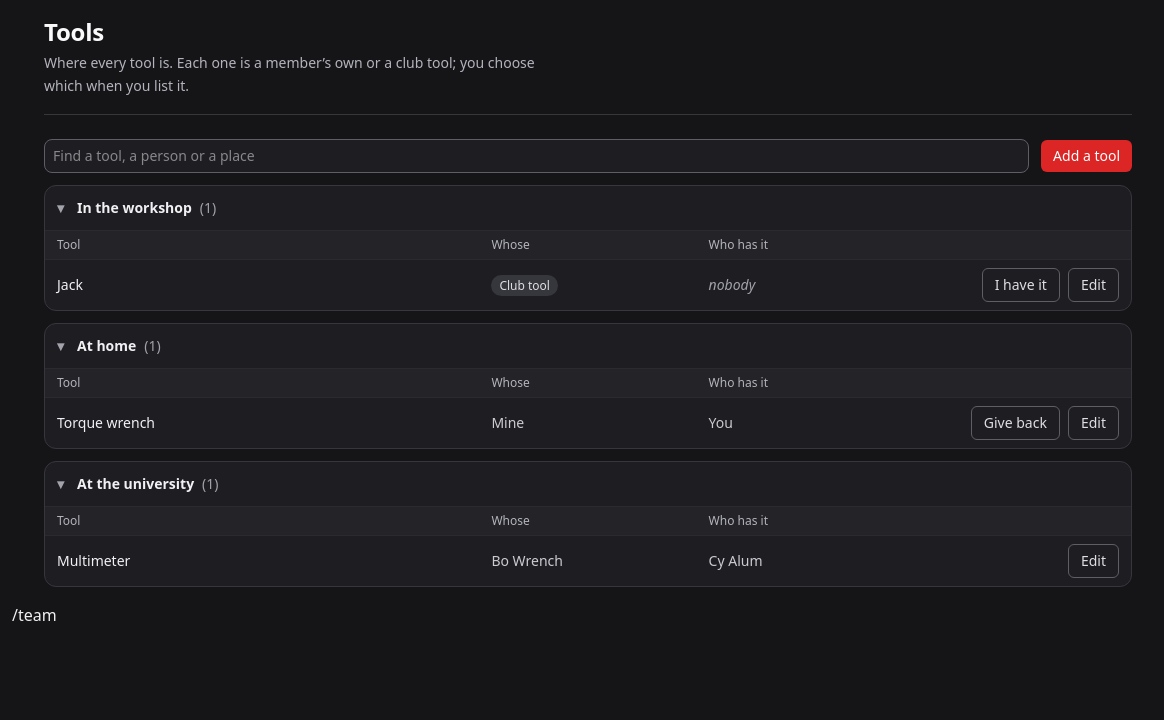
Test: Team › finds a tool by its name, its owner, who has it, where it is or "club tool"
This screenshot has width=1164, height=720.
Type "torq" into the search field labelled "Find a tool" at (537, 156), box x1=44 y1=138 x2=1029 y2=172
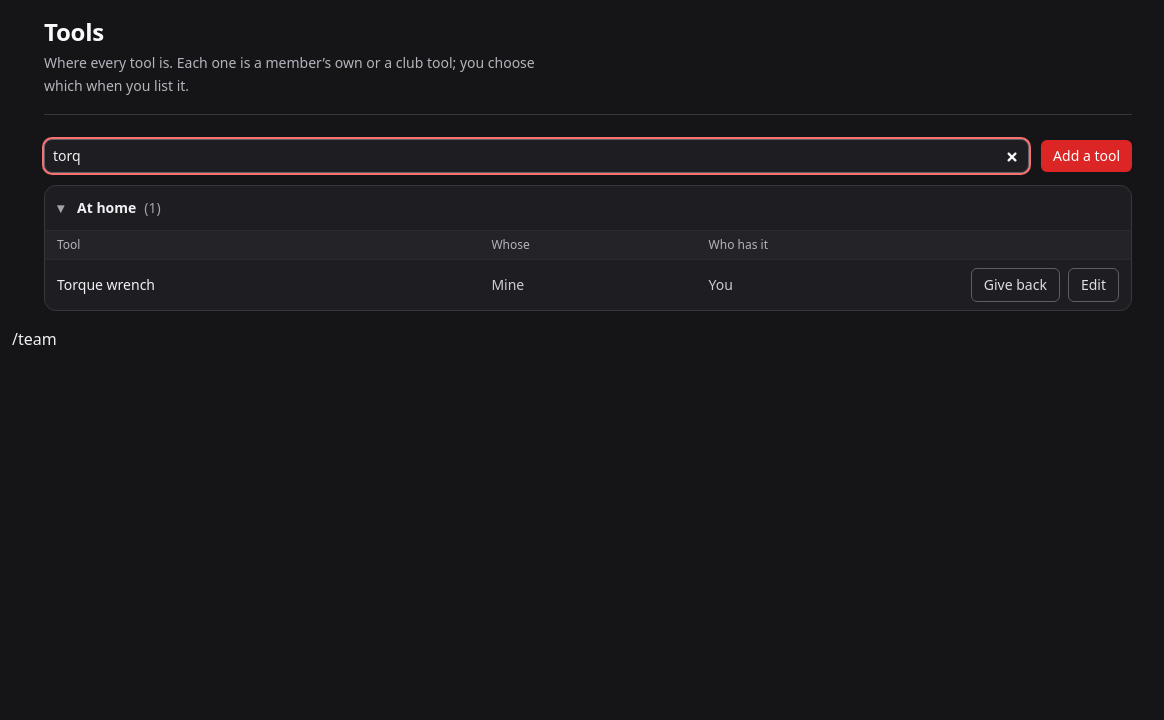
Expected: the row with test id "tool-2" is shown, x1=45 y1=259 x2=1131 y2=310
Expected: the row with test id "tool-1" is gone
Replace the text in the search field named "Find a tool" with "alum" at (537, 156), box x1=44 y1=138 x2=1029 y2=172
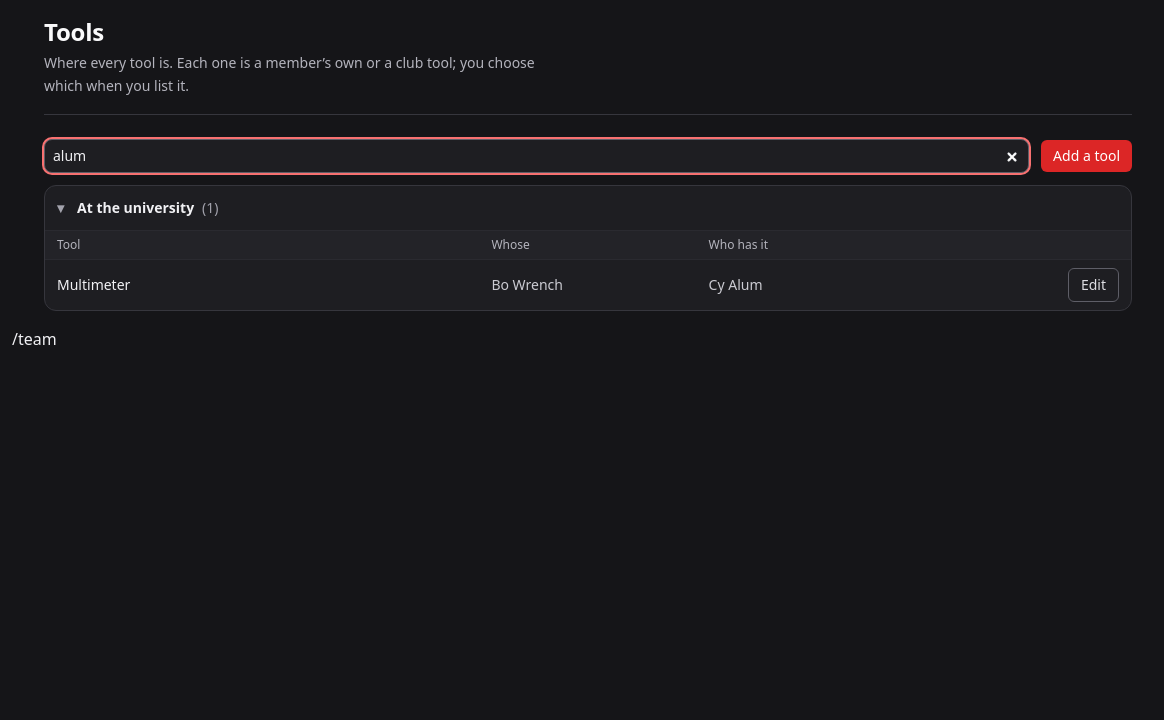
Expected: the row with test id "tool-3" is shown, x1=45 y1=259 x2=1131 y2=310
Replace the text in the search field named "Find a tool" with "club tool" at (537, 156), box x1=44 y1=138 x2=1029 y2=172
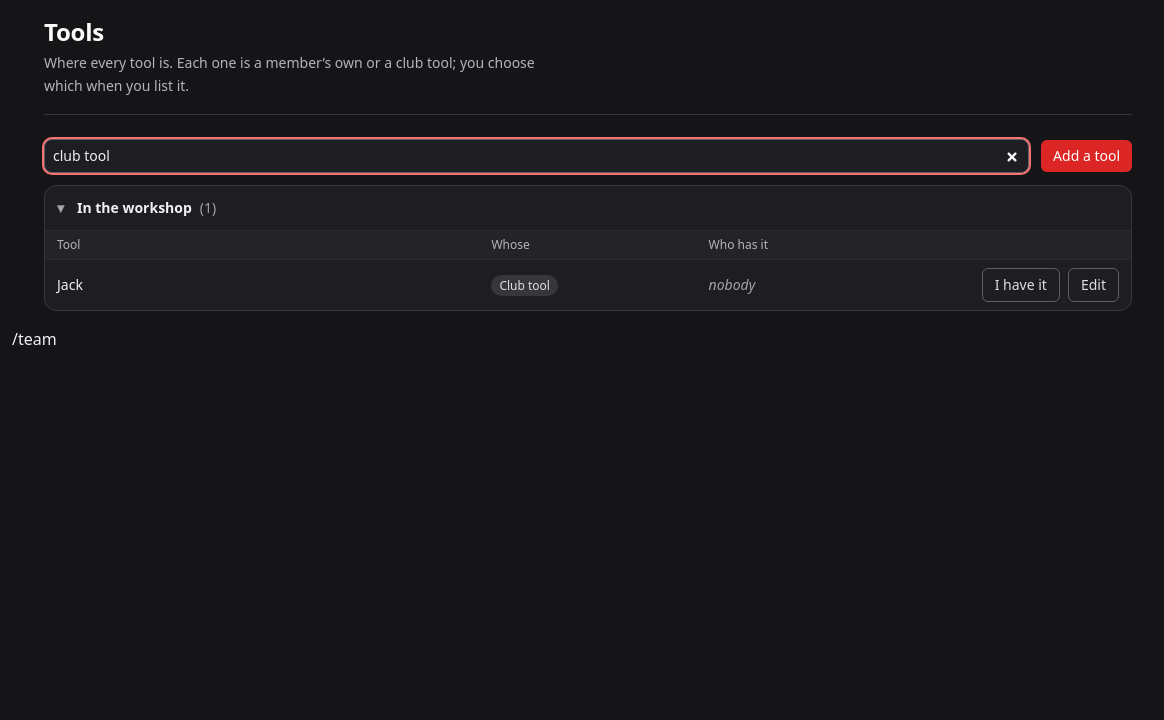
Expected: the row with test id "tool-1" is shown, x1=45 y1=259 x2=1131 y2=310
Replace the text in the search field named "Find a tool" with "nothing like this" at (537, 156), box x1=44 y1=138 x2=1029 y2=172
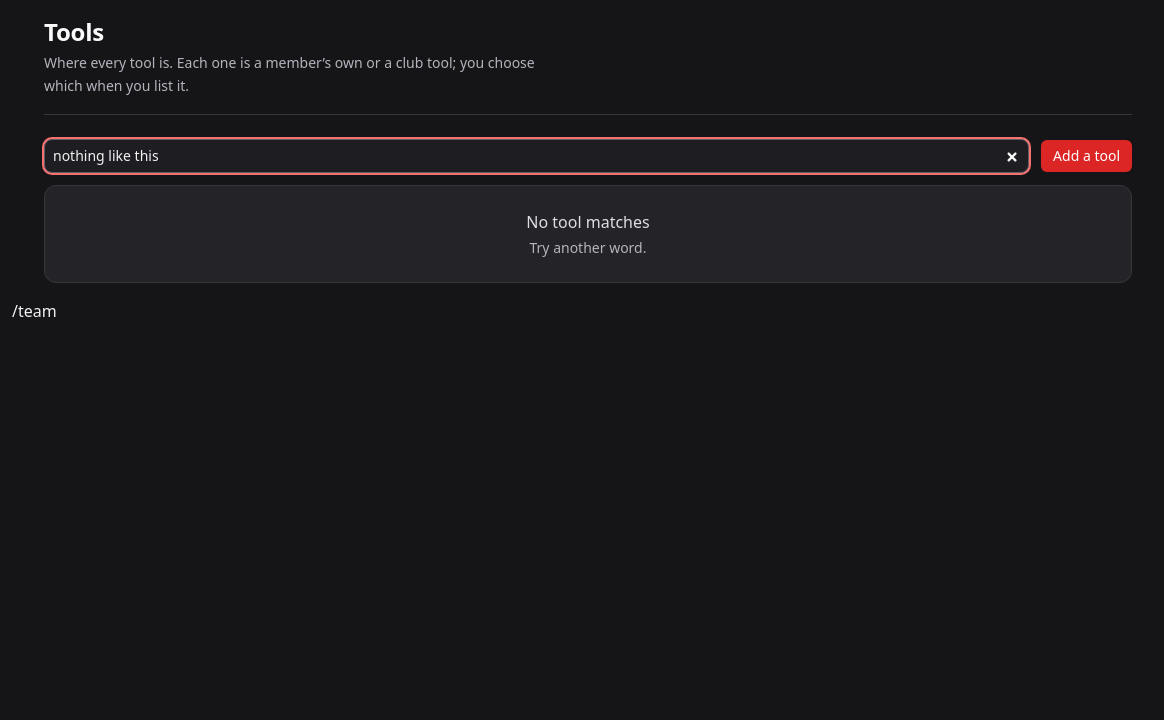
Expected: the text "No tool matches" is shown, x1=526 y1=210 x2=650 y2=232
